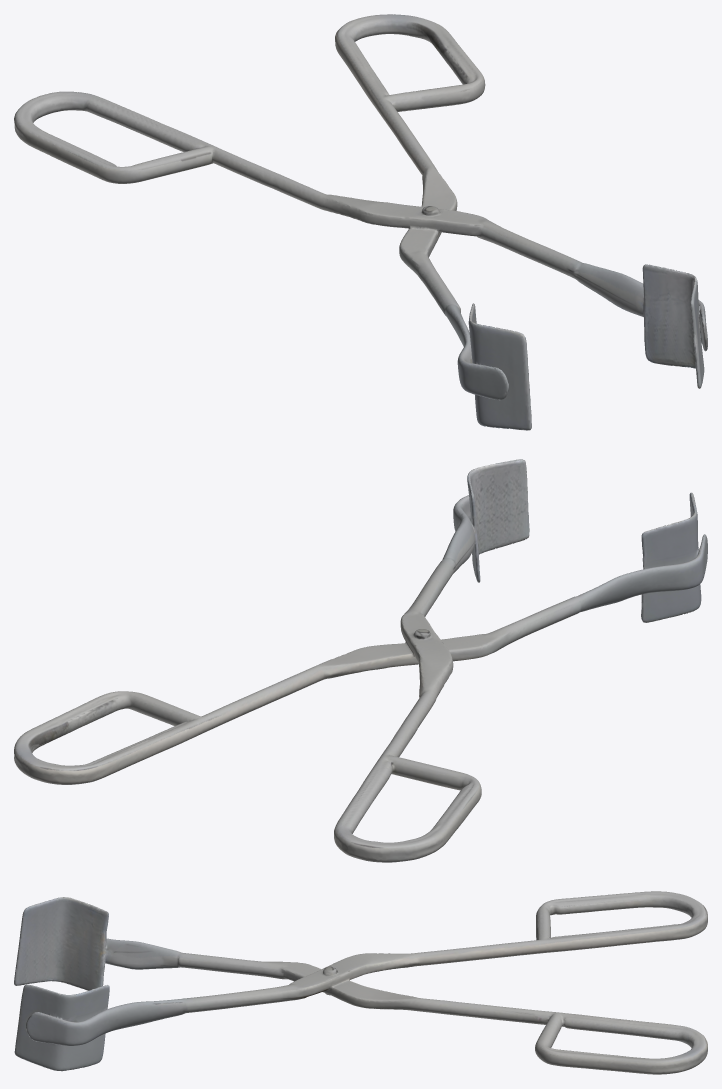
File: tripo_pbr_model_cd277f14-04fc-40fe-b1d9-e1919f736573.glb
3 renders of one model, top to bottom at view 1: azimuth 30°, elevation 25°; view 2: azimuth 150°, elevation 25°; view 3: azimuth 270°, elevation 25°, orthographic. The views are drawn at different scales.
Parts seen in each view (by area): view 1: tripo_node_cd277f14-04fc-40fe-b1d9-e1919f736573; view 2: tripo_node_cd277f14-04fc-40fe-b1d9-e1919f736573; view 3: tripo_node_cd277f14-04fc-40fe-b1d9-e1919f736573.
Boxes of the visible parts, x1,y1,x2,y2 form: tripo_node_cd277f14-04fc-40fe-b1d9-e1919f736573: (14,14,707,430); tripo_node_cd277f14-04fc-40fe-b1d9-e1919f736573: (14,459,707,862); tripo_node_cd277f14-04fc-40fe-b1d9-e1919f736573: (14,891,707,1074).
Bounding box in the file's own units: 0.5894 × 0.1375 × 1.
1 material, 1 textured.
